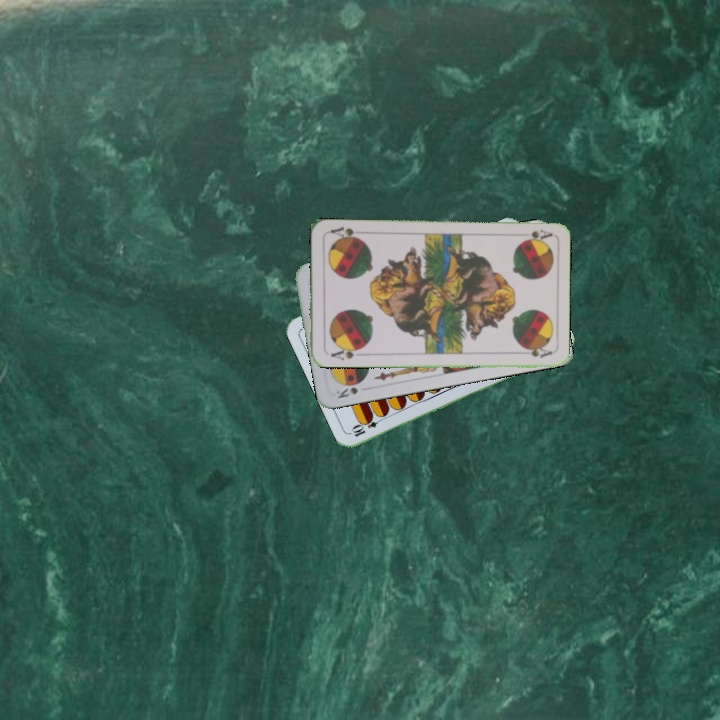E10: (348, 412, 387, 439)
SA: (327, 343, 364, 363), (518, 225, 554, 244)
SK: (332, 383, 360, 401)
